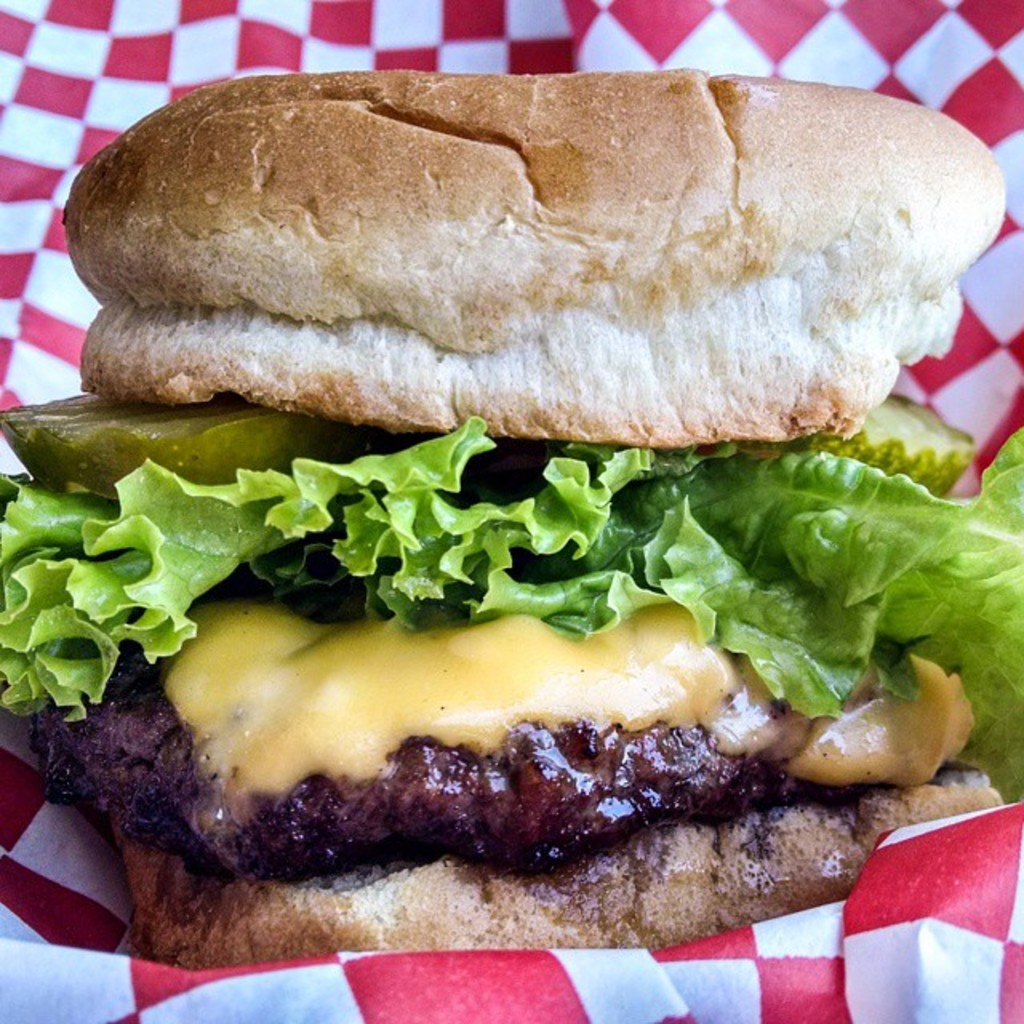Hamburger: (4, 60, 1014, 956)
